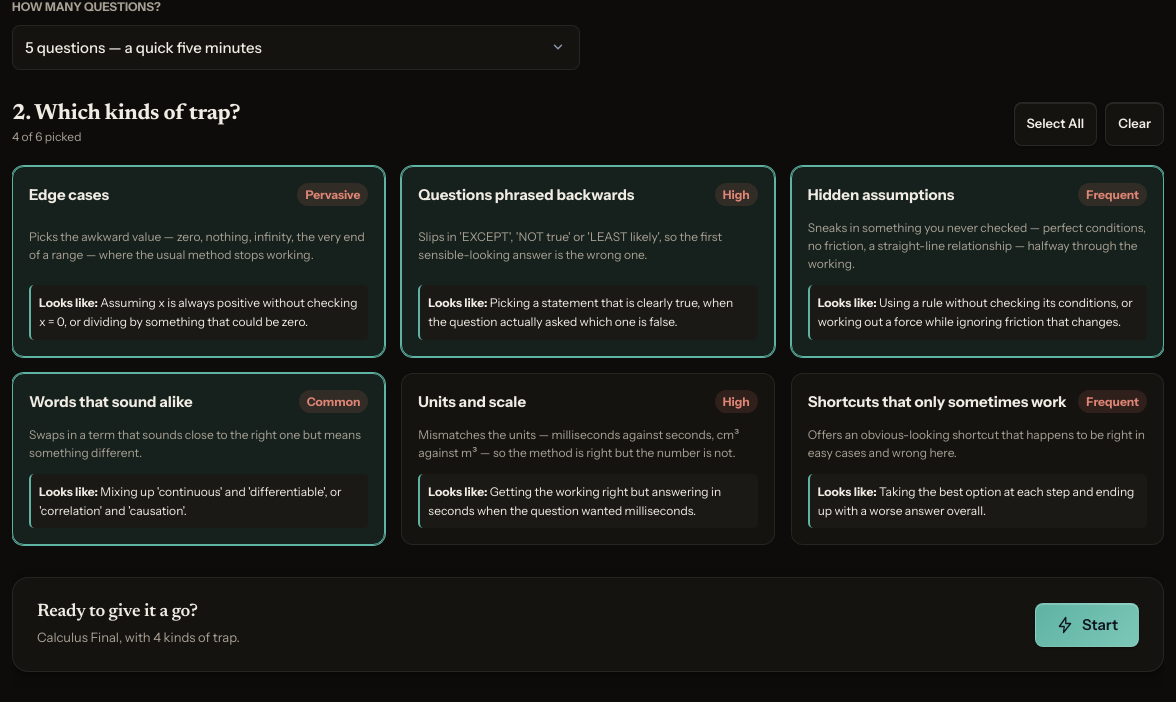
Test: PreMortemHubView › starts the question set when Start is clicked
(page scrolled)
Click the button "Start": (1087, 625) x1=1035 y1=603 x2=1139 y2=647
(page scrolled)
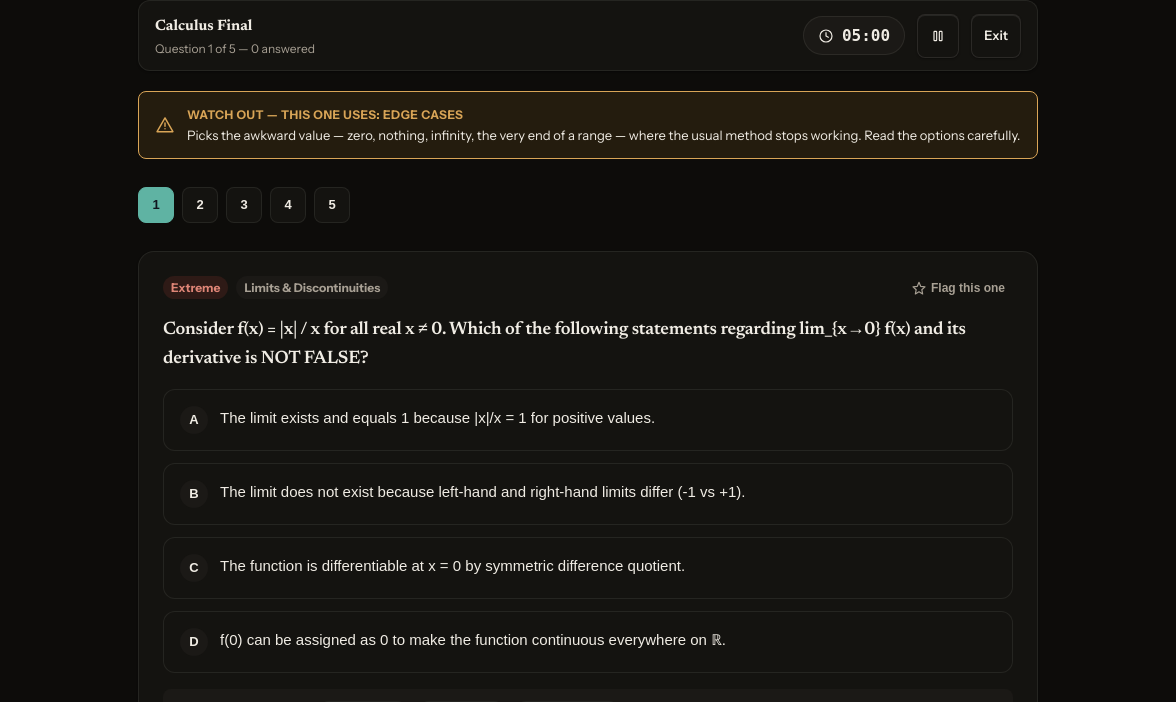
Expected: the text "Question 1 of 5 — 0 answered" is shown, x1=155 y1=39 x2=315 y2=58
